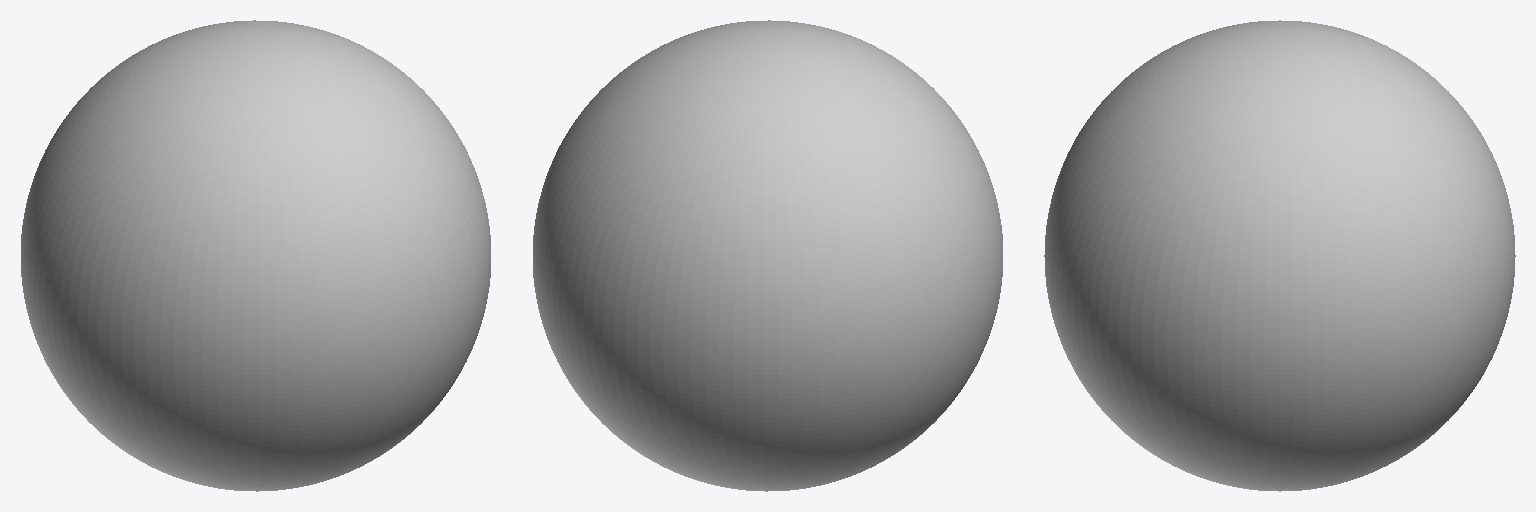
Rendered from SHIPf.obj.
3 renders of one model, left to right at view 1: azimuth 30°, elevation 25°; view 2: azimuth 150°, elevation 25°; view 3: azimuth 270°, elevation 25°, orthographic.
Size of the model in its own units: 2 by 2 by 2.